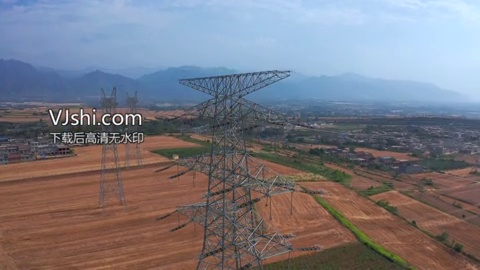tower_body: (164, 66, 303, 270)
tower_foot: (198, 233, 243, 270)
tower_head: (170, 69, 296, 131)
